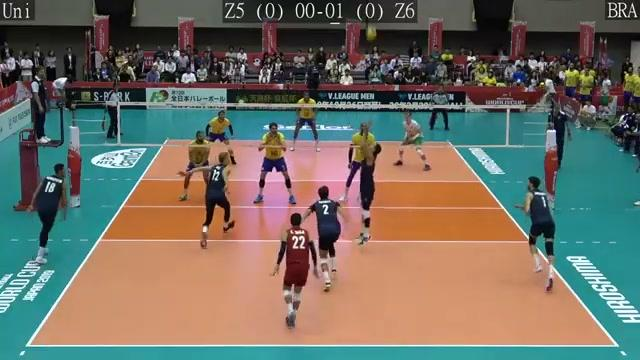ball: (368, 27, 376, 39)
